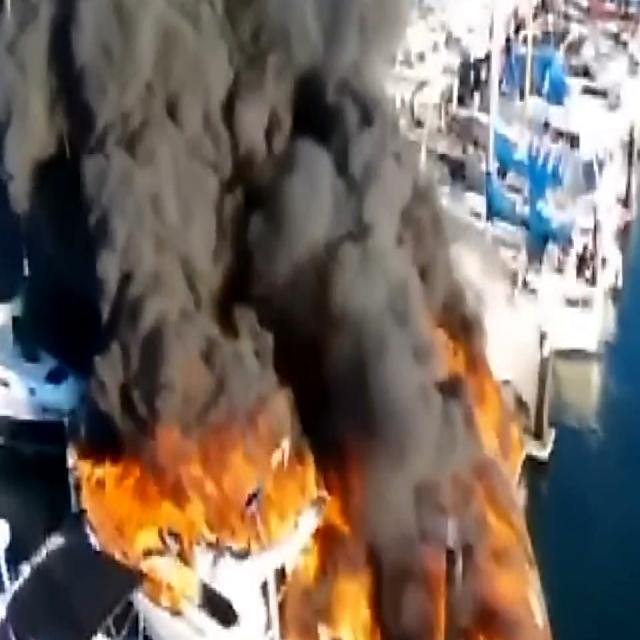fire: (79, 418, 299, 555), (457, 489, 572, 640), (279, 563, 382, 640)
smoke: (27, 0, 357, 312)
